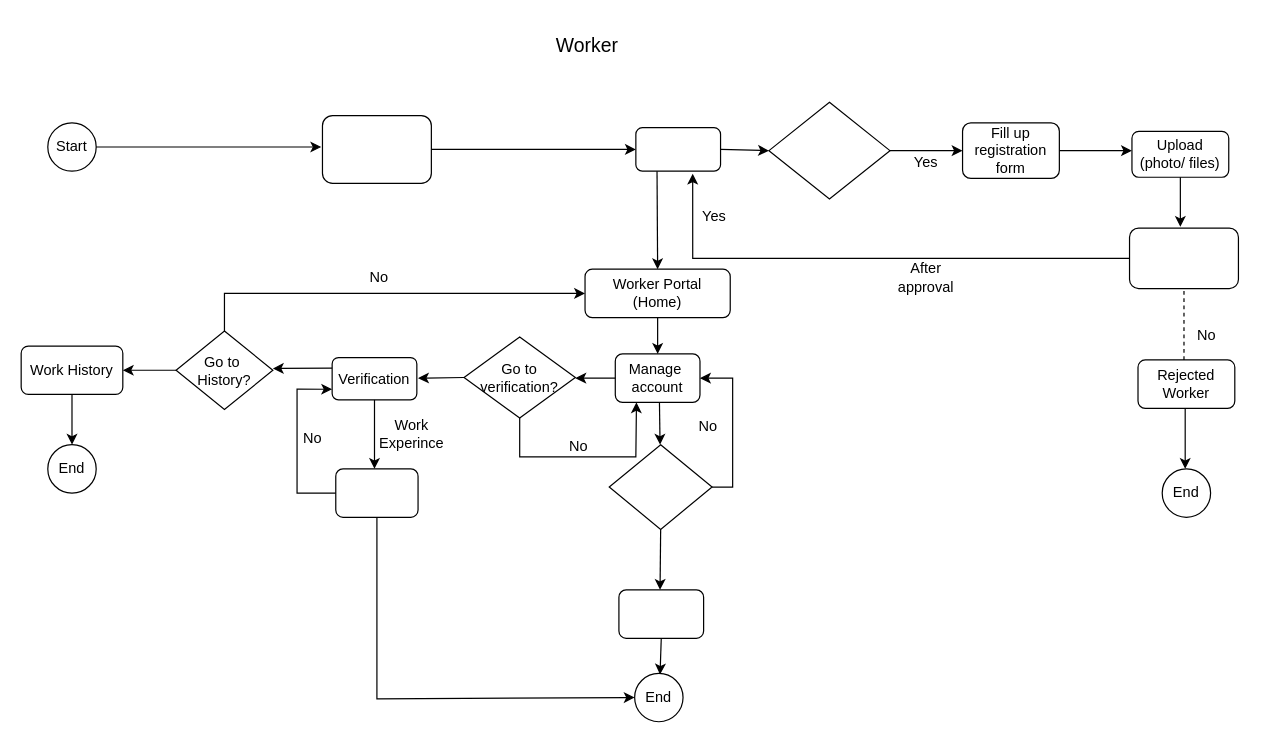
This 1264x743 diagram has some shape labels left out. The centre of each missing label's shape, as x and y in pixels:
Create an account?: the point at 829,150
Edit account?: the point at 660,486
Edit Information: the point at 661,613
Homepage (Not registered): the point at 376,148
Login: the point at 678,148
Upload (Verification proof): the point at 376,492
Wait for approval: the point at 1183,258
